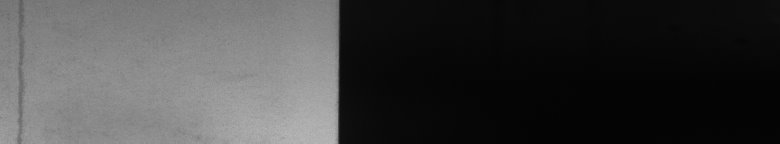hd: (15, 4, 28, 136)
